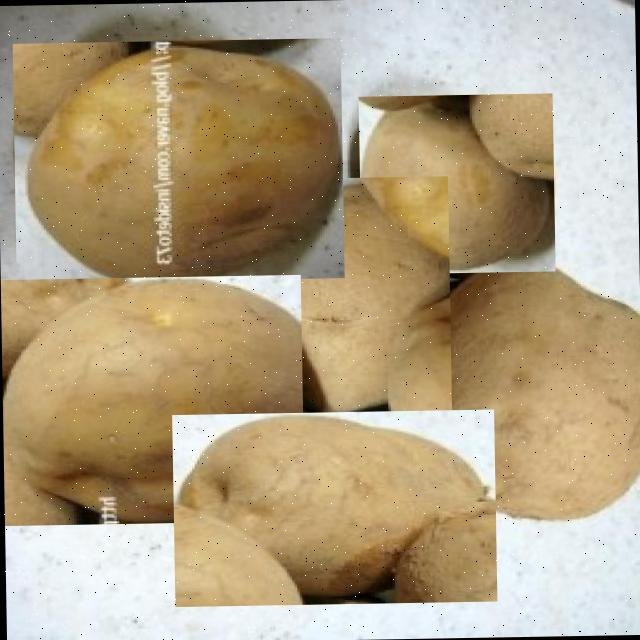Potato: (11, 38, 343, 284), (0, 274, 303, 525), (390, 253, 640, 532), (171, 409, 496, 607), (232, 176, 450, 422), (357, 93, 554, 274)
